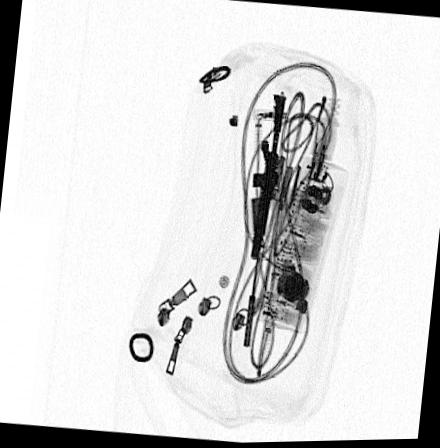Gun: (242, 89, 289, 350)
